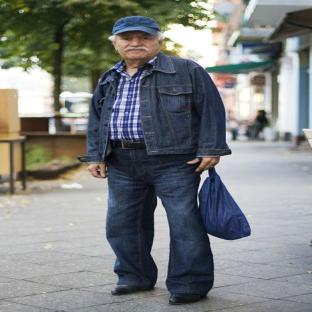Human: (77, 16, 230, 304)
